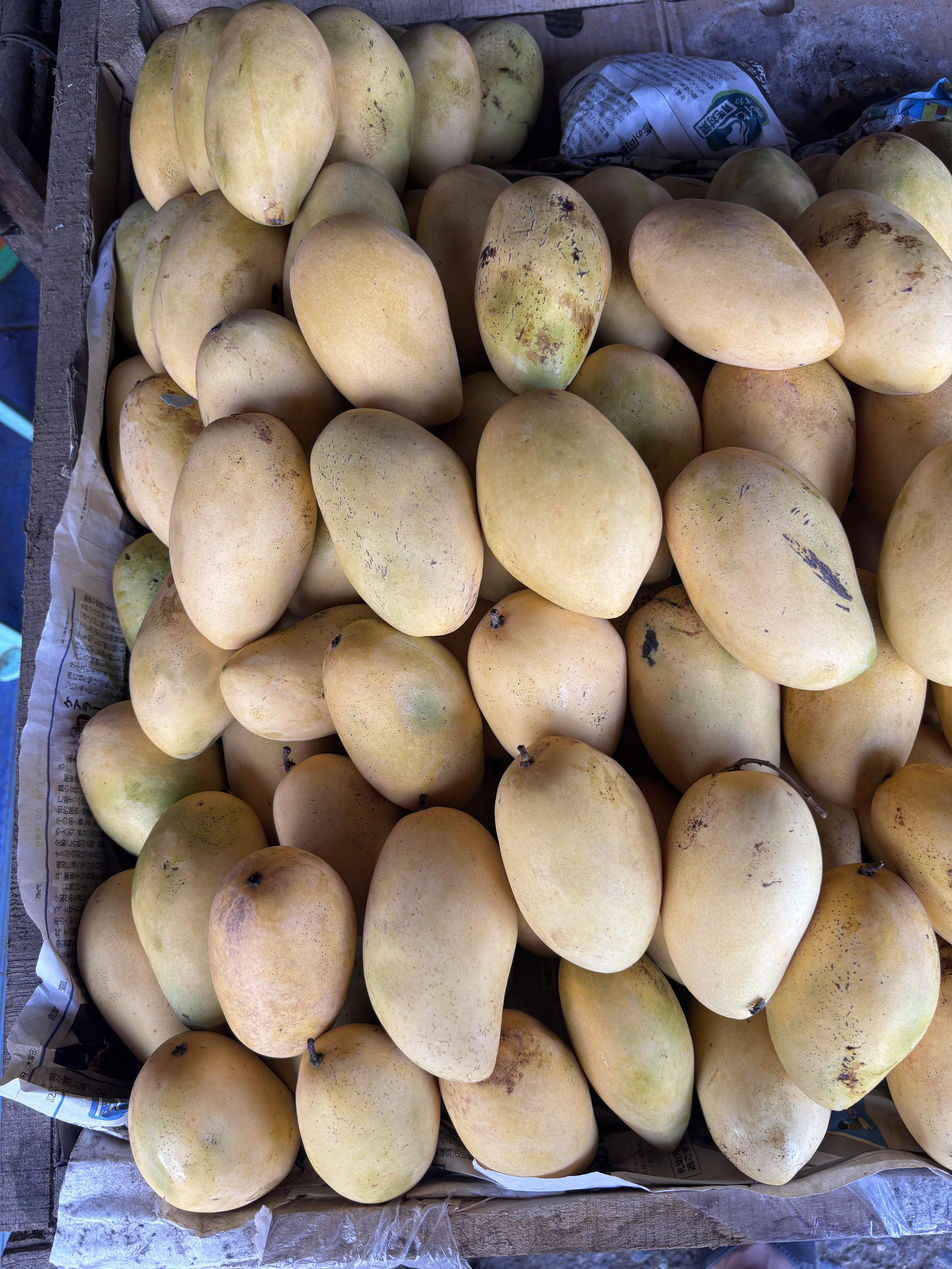mango: (664, 447, 876, 690), (765, 865, 940, 1111), (476, 390, 662, 619), (363, 807, 517, 1082), (661, 769, 822, 1019), (310, 408, 483, 636), (495, 736, 661, 973), (289, 212, 462, 427), (628, 199, 844, 370), (170, 413, 317, 651), (128, 1031, 300, 1213), (209, 846, 356, 1058), (204, 0, 337, 226), (474, 175, 611, 393), (296, 1024, 440, 1203)
occluded: (782, 570, 927, 808), (792, 190, 952, 395), (624, 585, 780, 793), (132, 792, 266, 1030), (323, 617, 483, 811), (151, 191, 286, 394), (467, 589, 627, 757), (559, 954, 694, 1152), (440, 1009, 598, 1177), (689, 1000, 829, 1185), (701, 361, 855, 515), (273, 754, 404, 935), (77, 700, 225, 856), (197, 310, 349, 455), (220, 603, 373, 742), (77, 870, 187, 1062), (567, 344, 702, 499), (416, 164, 510, 376), (310, 5, 415, 194), (571, 166, 673, 356), (130, 573, 232, 759), (878, 442, 952, 686), (283, 161, 409, 290), (828, 131, 952, 257), (221, 719, 343, 844), (853, 377, 952, 528), (119, 372, 204, 545), (871, 763, 952, 944), (887, 946, 952, 1168), (398, 24, 480, 188), (132, 192, 200, 373), (130, 26, 193, 211), (468, 19, 544, 166), (173, 7, 232, 194), (779, 752, 862, 873), (707, 147, 818, 231), (439, 370, 516, 486), (104, 355, 152, 524), (288, 515, 360, 618), (113, 533, 170, 650), (114, 199, 155, 350), (479, 540, 522, 601), (647, 915, 684, 985), (907, 723, 952, 768), (517, 908, 557, 957), (930, 681, 952, 747), (645, 535, 672, 582)
